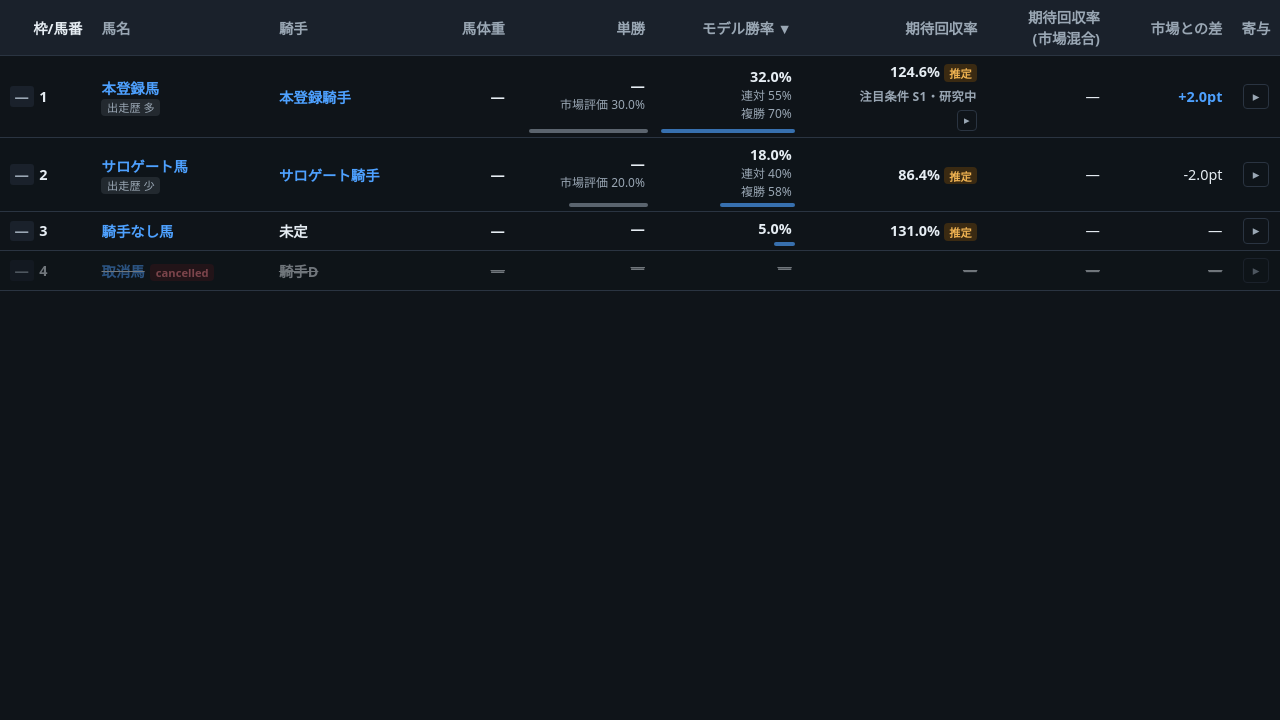
Scenario: HorseEntriesTable 注目条件 (138) › the breakdown opens in the expansion row (内訳 toggle; 寄与 opens the same row)
The image size is (1280, 720).
Click the button named "注目条件の内訳".
click(967, 120)  # box top-left (956, 110), bottom-right (977, 131)
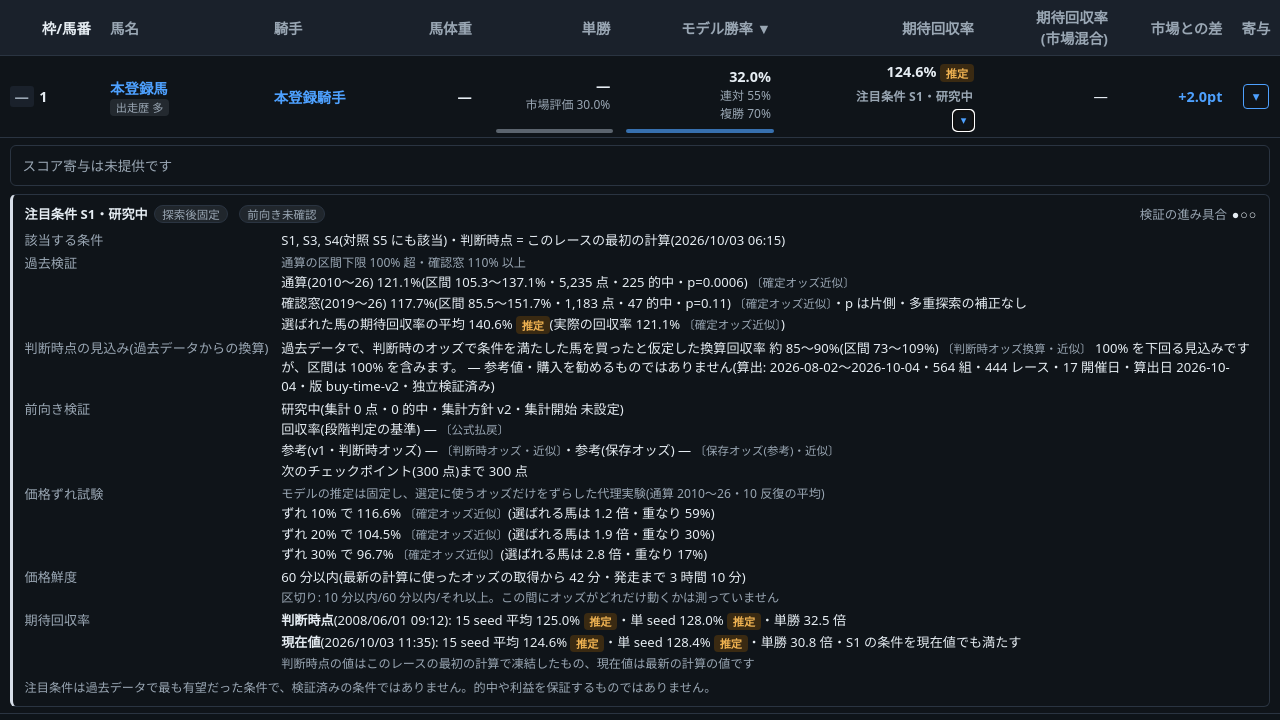
Expected: the button named "注目条件の内訳" is expanded
Expected: the text "通算(2010〜26)" is shown, top-left (281, 273), bottom-right (373, 291)
Expected: the text "スコア寄与は未提供です" is shown, top-left (10, 145), bottom-right (1270, 186)
# closing and reopening via 寄与 shows the same breakdown
Click the button named "注目条件の内訳".
click(963, 120)  # box top-left (953, 110), bottom-right (974, 131)
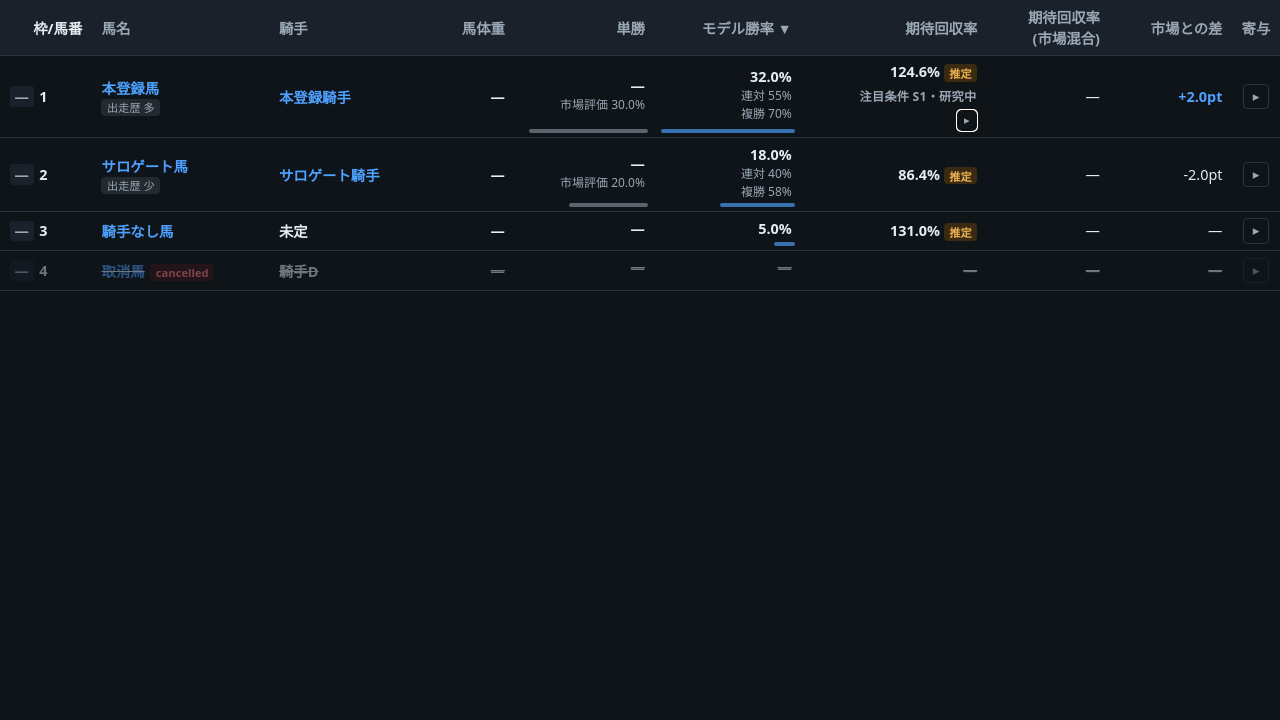
Expected: the element with test id "attention-panel" is gone
Click the button named "スコア寄与".
click(1256, 96)  # box top-left (1243, 84), bottom-right (1269, 109)
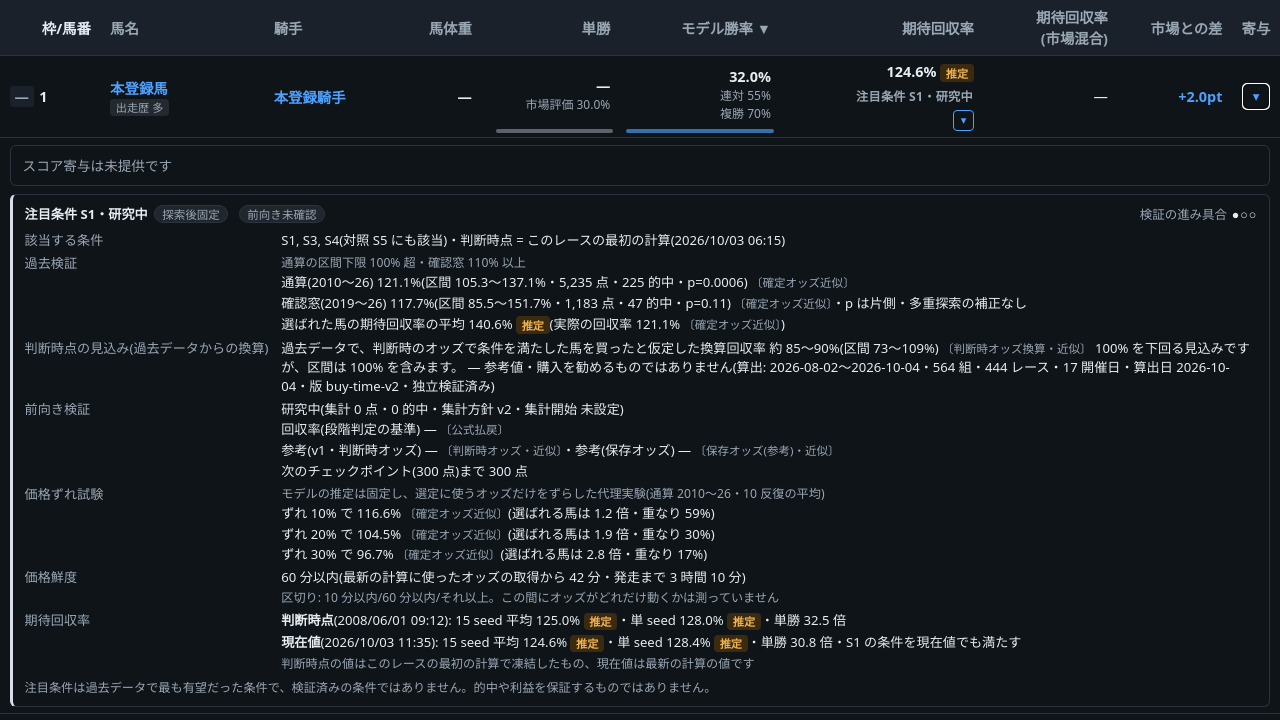
Expected: the element with test id "attention-panel" is shown
